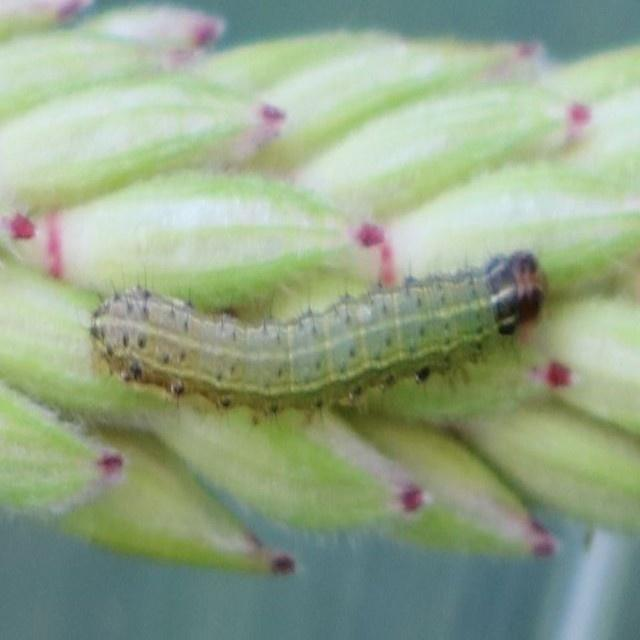gusano_cogollero: (96, 242, 546, 396)
